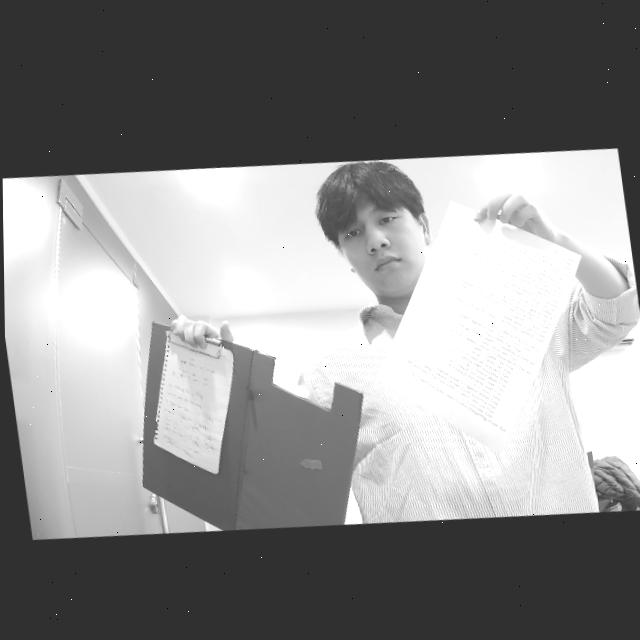document: (377, 201, 581, 454), (153, 330, 235, 474)
face: (320, 159, 439, 303)
